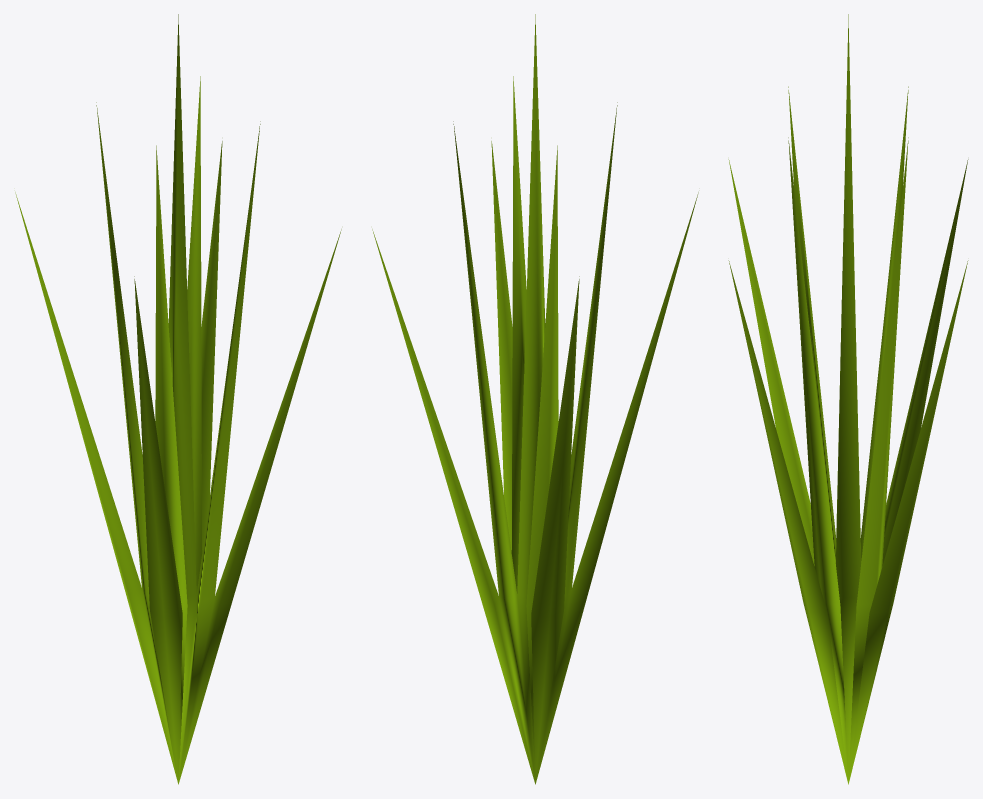
Rendered from Perennao50cm.glb.
The picture shows the model from 3 angles, left to right: view 1: azimuth 30°, elevation 25°; view 2: azimuth 150°, elevation 25°; view 3: azimuth 270°, elevation 25°; orthographic projection.
Visible parts, largest first — view 1: Perennao50cm; view 2: Perennao50cm; view 3: Perennao50cm.
Boxes of the visible parts, <box> form: Perennao50cm: <box>15,14,341,784</box>; Perennao50cm: <box>372,14,698,784</box>; Perennao50cm: <box>728,14,968,784</box>.
Size of the model in its own units: 0.1414 by 0.5 by 0.1414.
